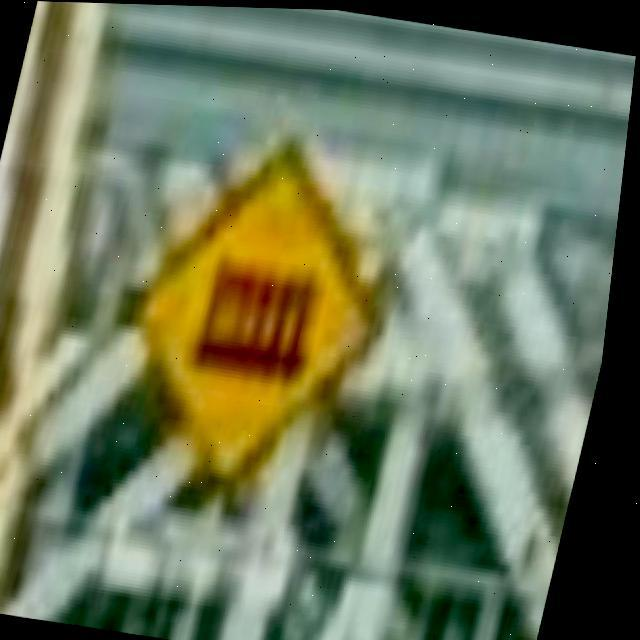Peringatan Perlintasan Kereta Api: (120, 160, 402, 481)
